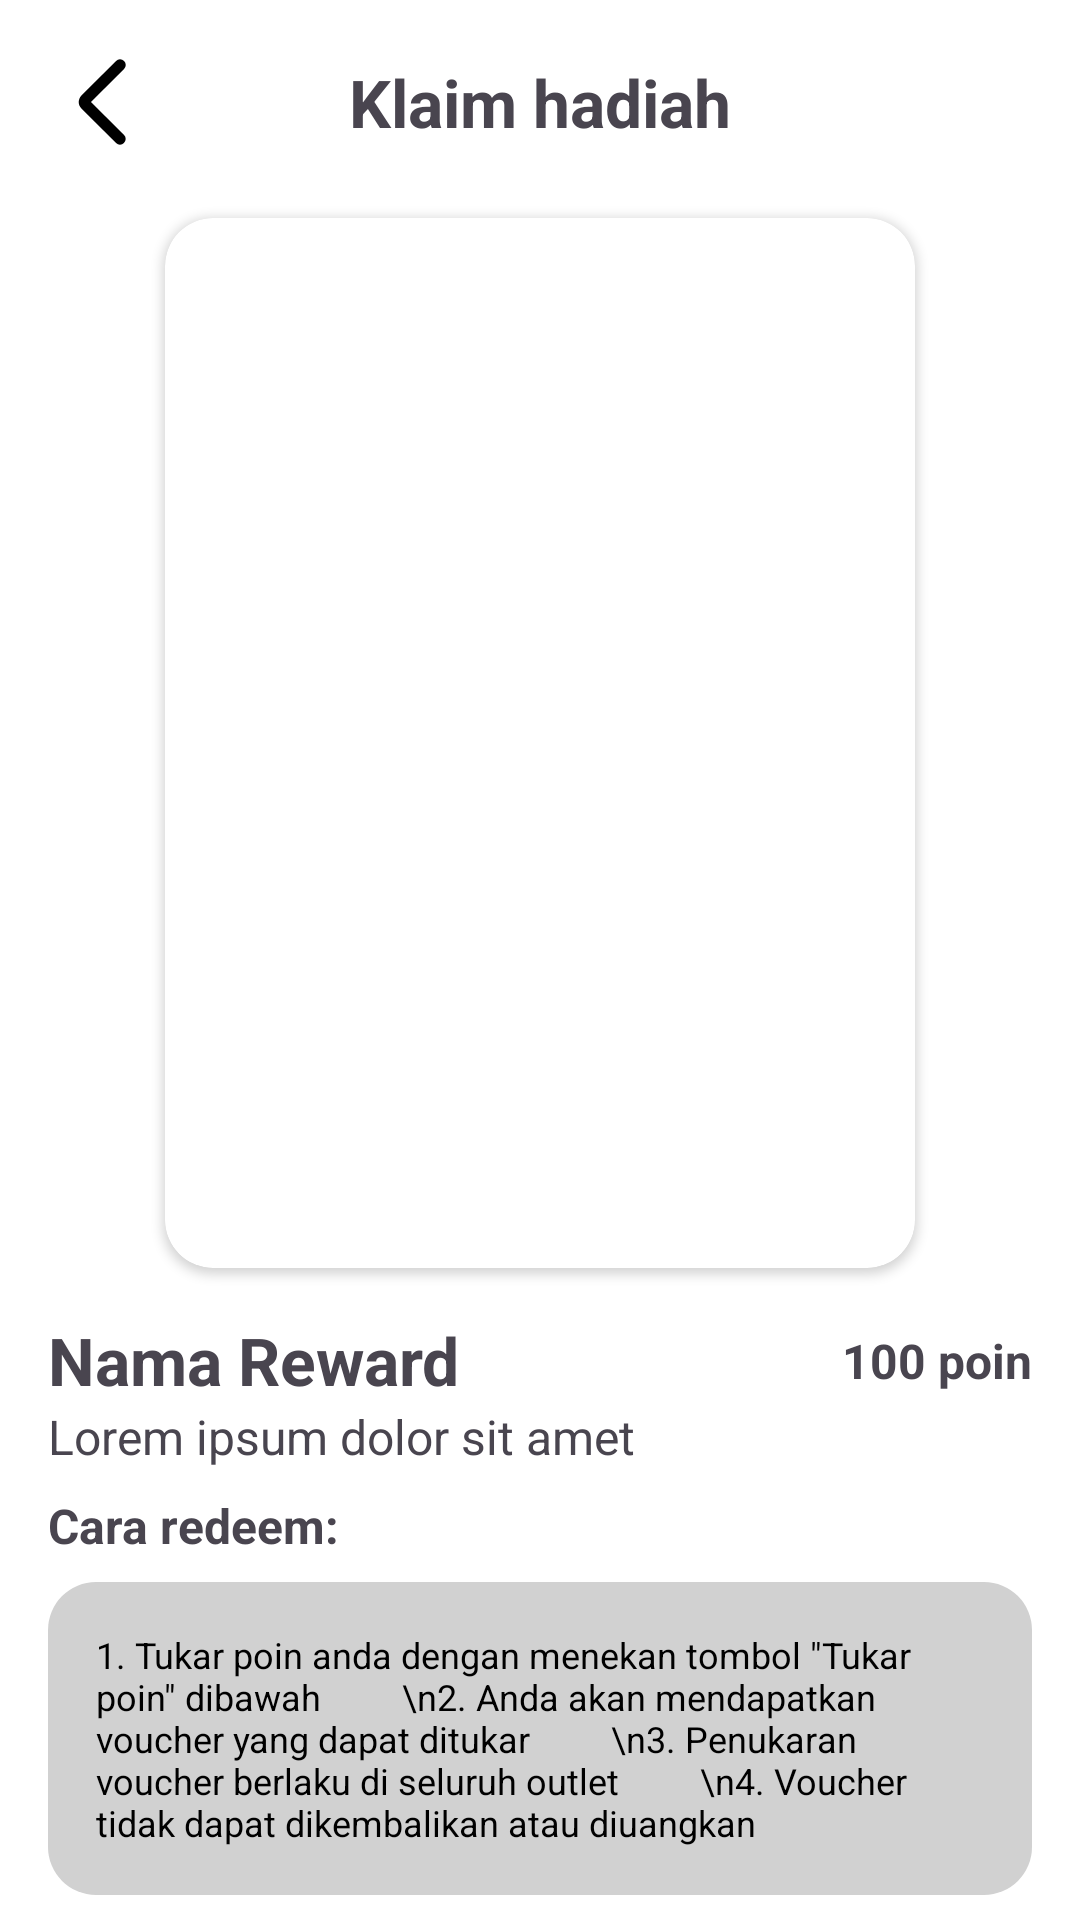

Where to tap for icons on this 1080w x 1920h app screen, as (x=x, y=y):
arrow back: (x=102, y=102)
